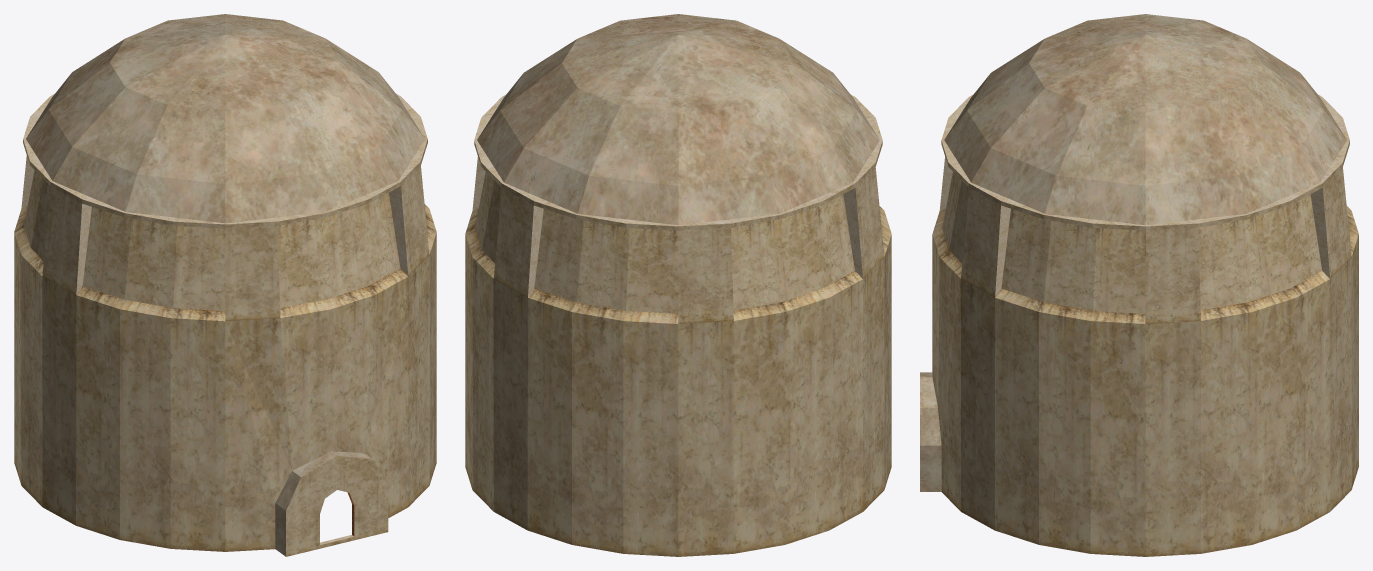
The model's file is thm_tato_imprv_building_s08_r0_mesh_l1.fbx.
The picture shows the model from 3 angles, left to right: view 1: azimuth 30°, elevation 25°; view 2: azimuth 150°, elevation 25°; view 3: azimuth 270°, elevation 25°; orthographic projection.
Parts seen in each view (by area): view 1: mesh_node; view 2: mesh_node; view 3: mesh_node.
Part boxes in pixels (bbox=[...]): mesh_node: bbox=[14, 14, 436, 556]; mesh_node: bbox=[465, 14, 891, 556]; mesh_node: bbox=[920, 14, 1358, 556].
Bounding box in the file's own units: 23.13 × 25.85 × 23.8.
